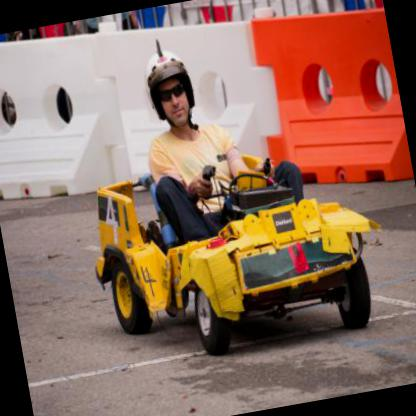car: (77, 129, 398, 374)
